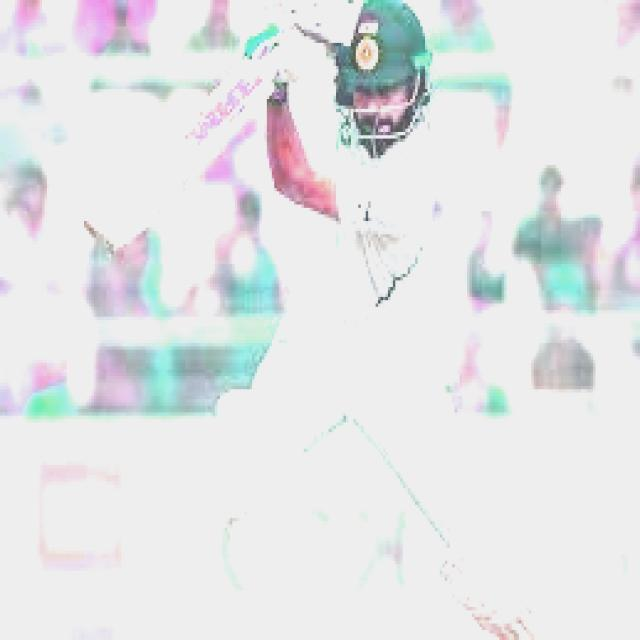bat: (77, 33, 310, 259)
toe: (77, 225, 125, 253)
